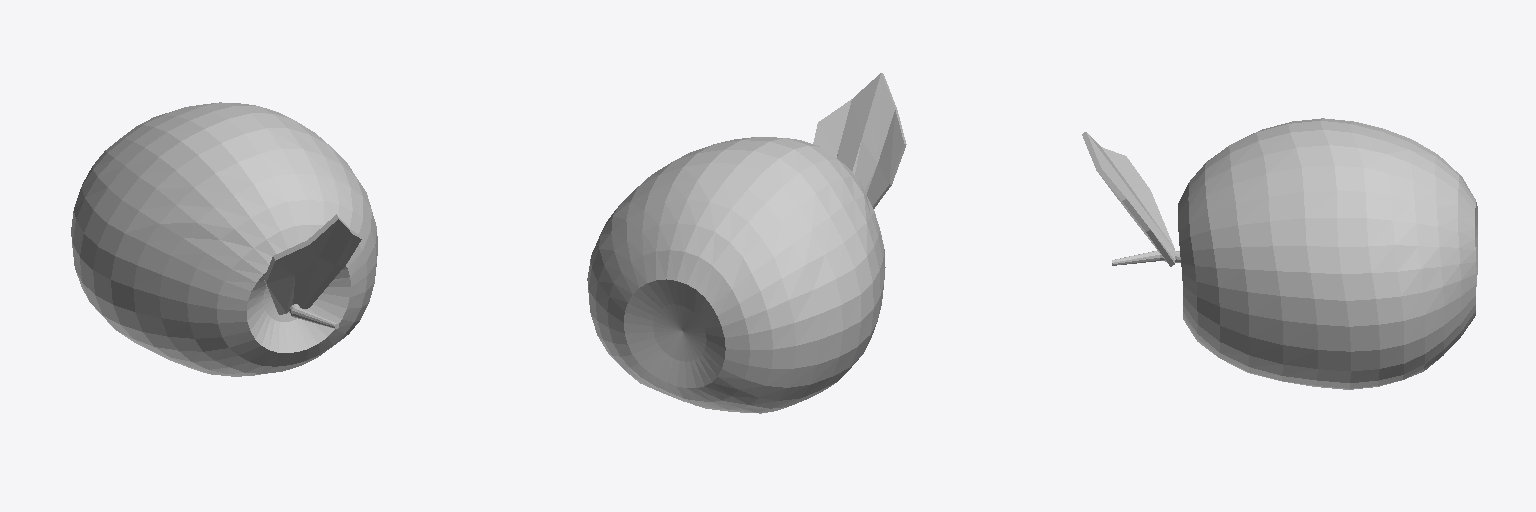
The model's file is green_apple.obj.
The picture shows the model from 3 angles: view 1: azimuth 30°, elevation 25°; view 2: azimuth 150°, elevation 25°; view 3: azimuth 270°, elevation 25°; orthographic projection.
Visible parts, largest first — view 1: Apple_Sphere.001; view 2: Apple_Sphere.001; view 3: Apple_Sphere.001.
Boxes of the visible parts, <box> form: Apple_Sphere.001: <box>71,102,377,376</box>; Apple_Sphere.001: <box>587,73,906,413</box>; Apple_Sphere.001: <box>1082,118,1477,389</box>.
Bounding box in the file's own units: 0.4854 × 0.444 × 0.6506.